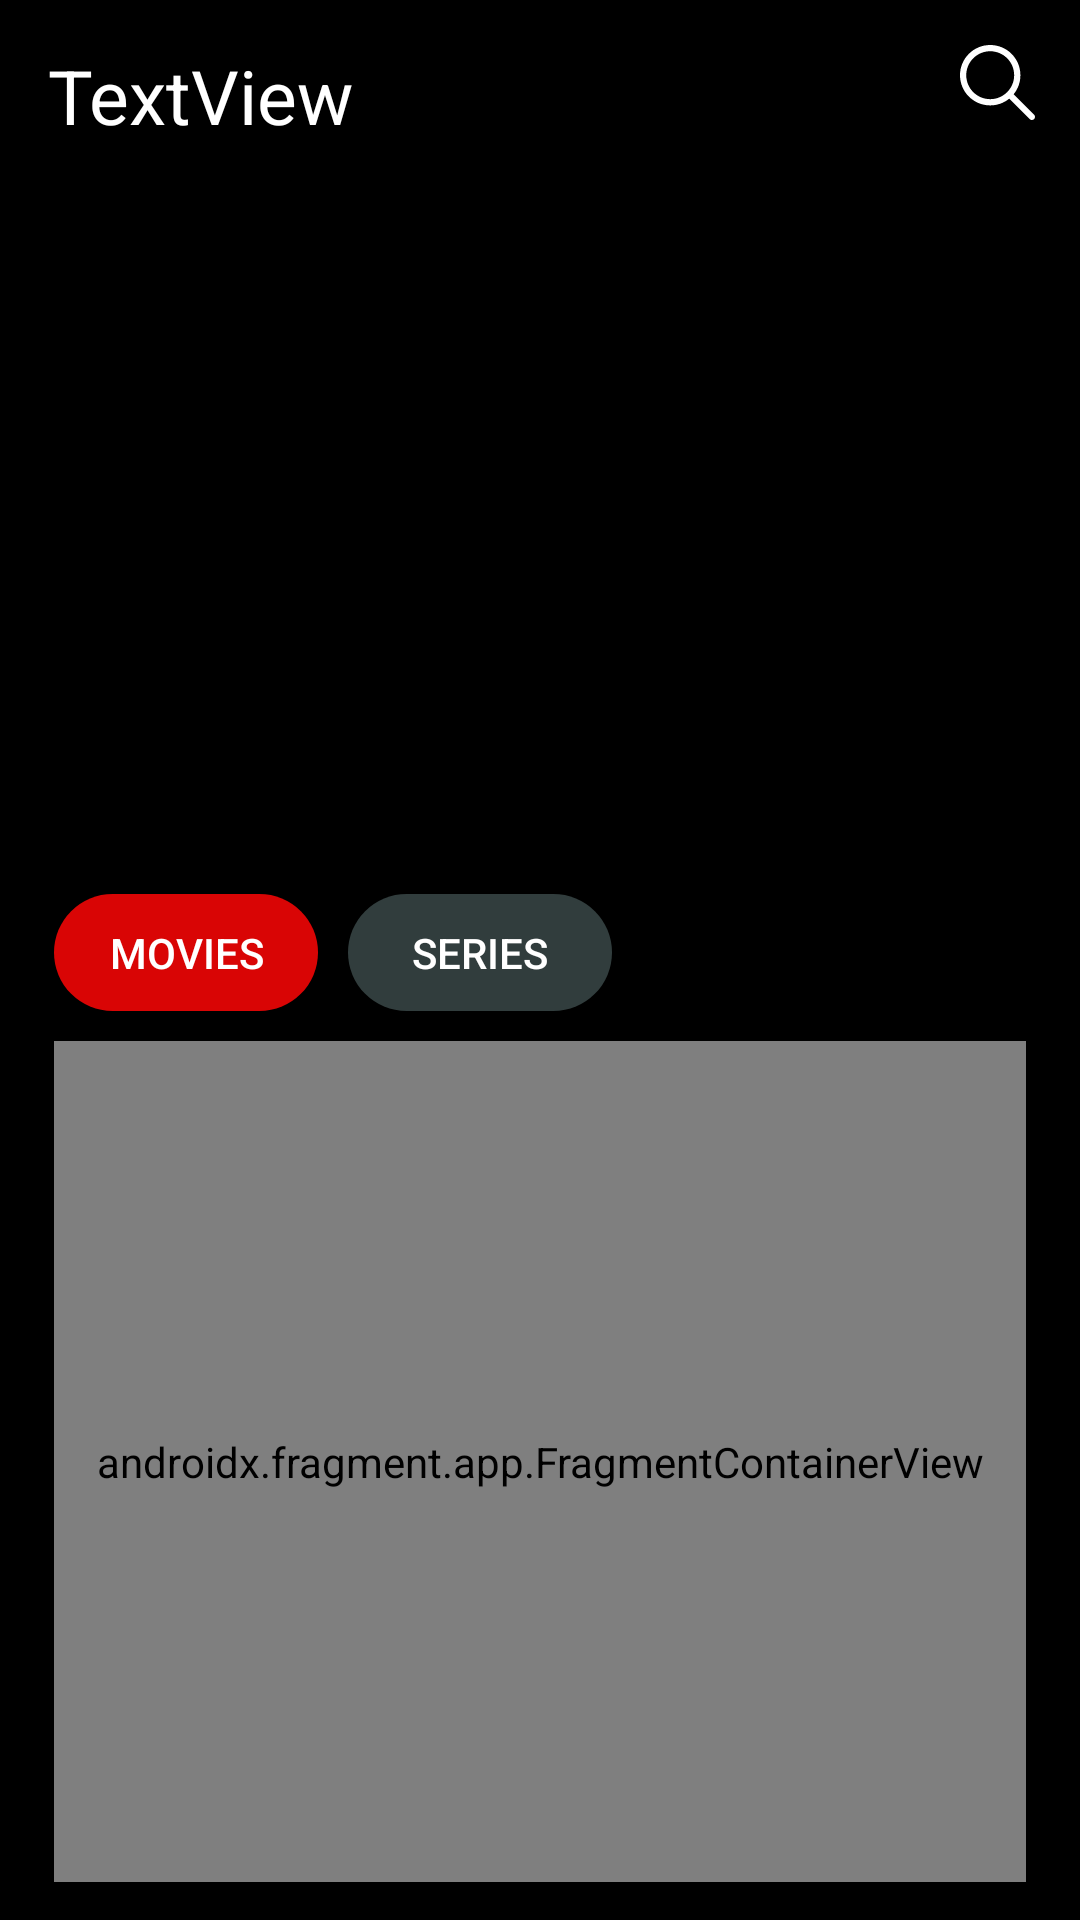

Icon click points for this 1080px×1920px phone screenshot, format point (x, y):
search: point (997, 82)
